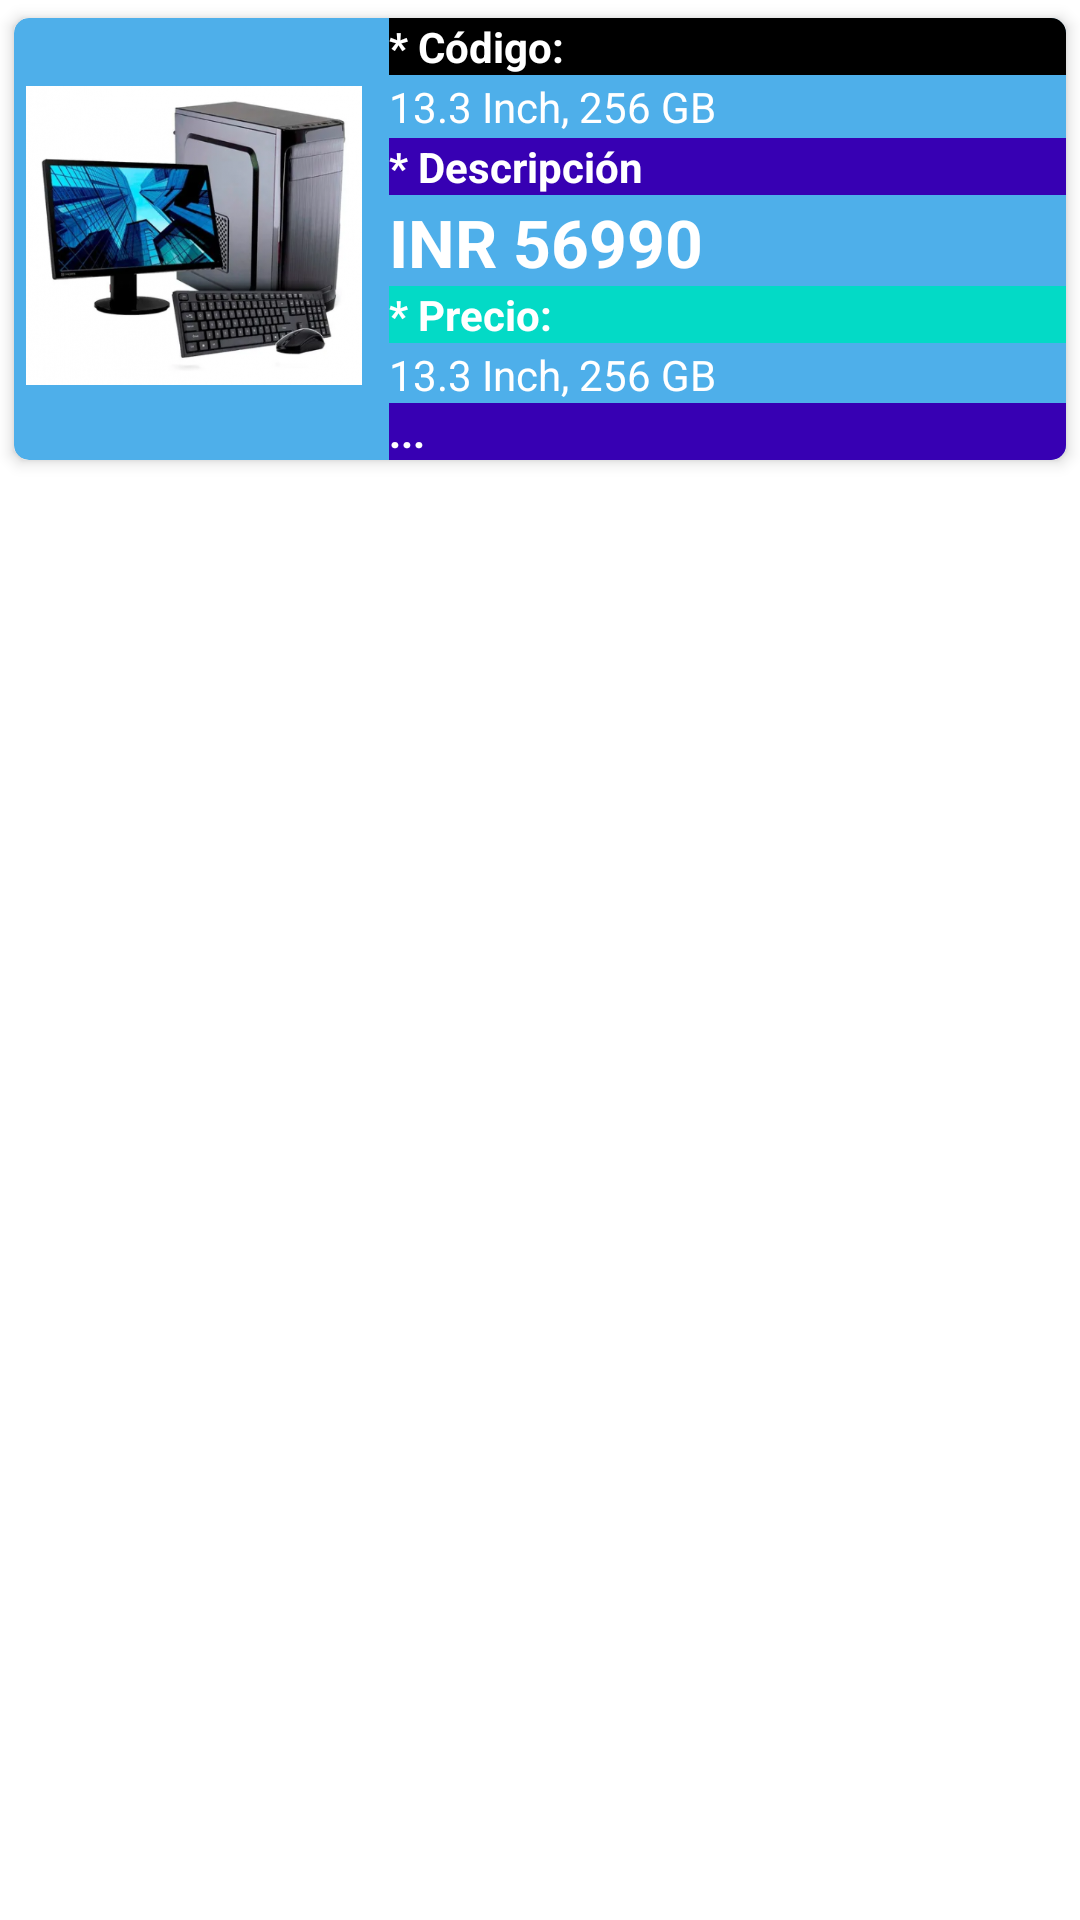

Icons on this 1080px x 1920px Android screen, each with the point to tap as point (x, y):
computadora: point (194, 235)
